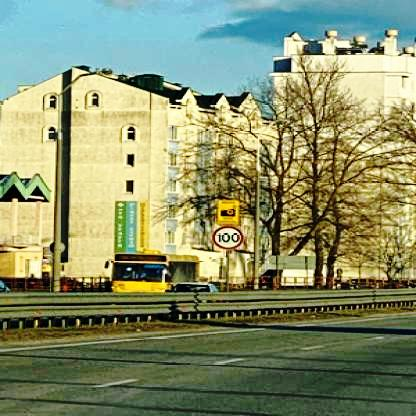Speed Limit -100-: (213, 225, 243, 251)
